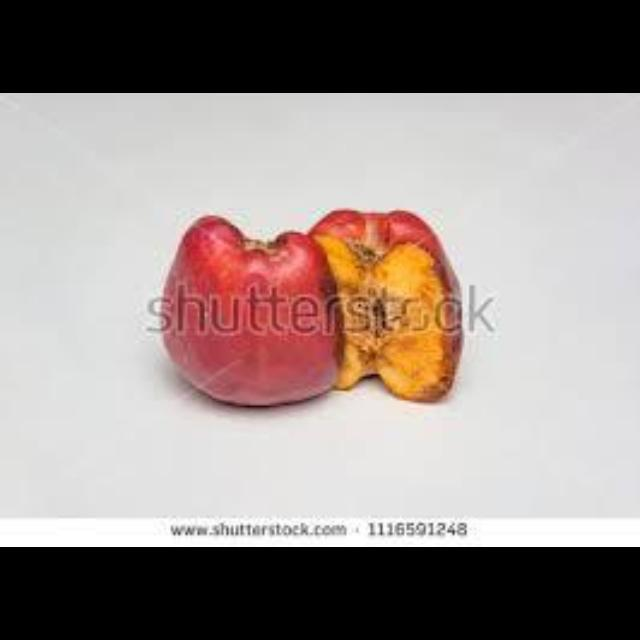apple: (156, 216, 339, 406), (310, 211, 460, 399)
rotten: (156, 216, 339, 406), (310, 208, 462, 401)
